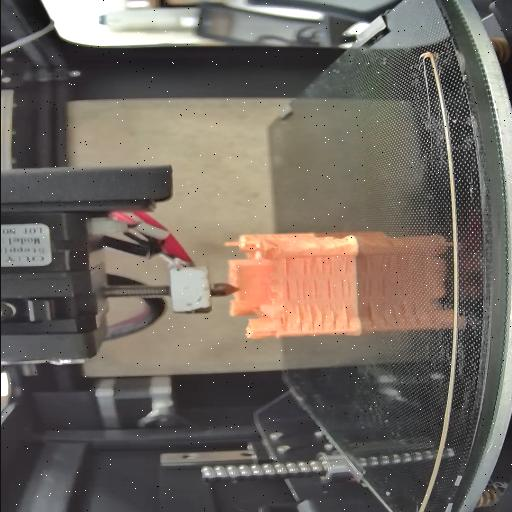cracks: (295, 304, 350, 332), (300, 256, 346, 276), (284, 277, 318, 301), (325, 278, 349, 300), (282, 256, 290, 276)
